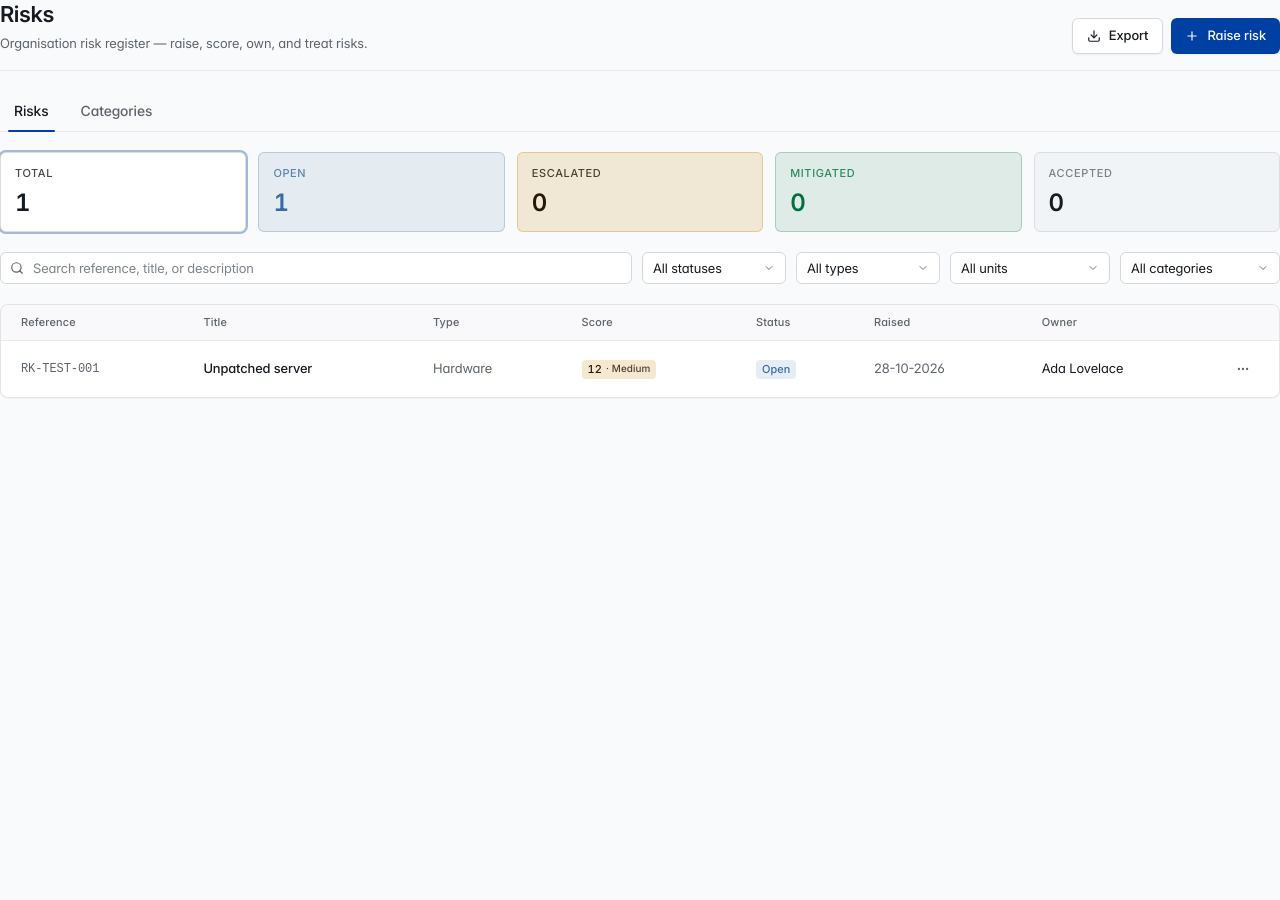
Test: RisksListPage › opens details from row actions
Expected: the text "Unpatched server" is shown, top-left (187, 341), bottom-right (417, 397)
What coordinates should you click on to do the following:
click the button named "actions for unpatched server"
I would click on:
 (1243, 369)
Its box is top-left (1227, 353), bottom-right (1259, 385).
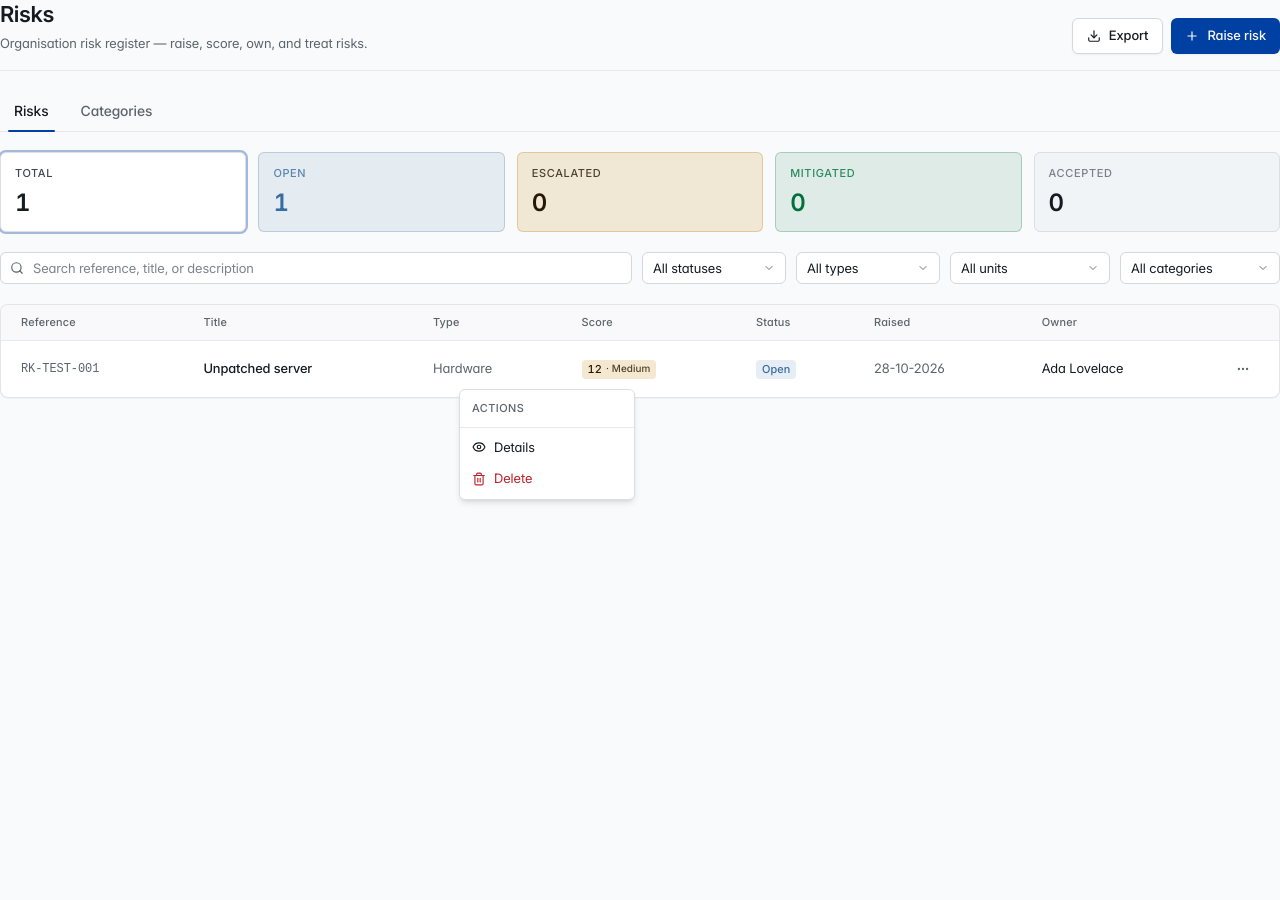
What coordinates should you click on to do the following:
click the menu item "Details"
I would click on:
 (503, 446)
Its box is top-left (472, 438), bottom-right (535, 454).
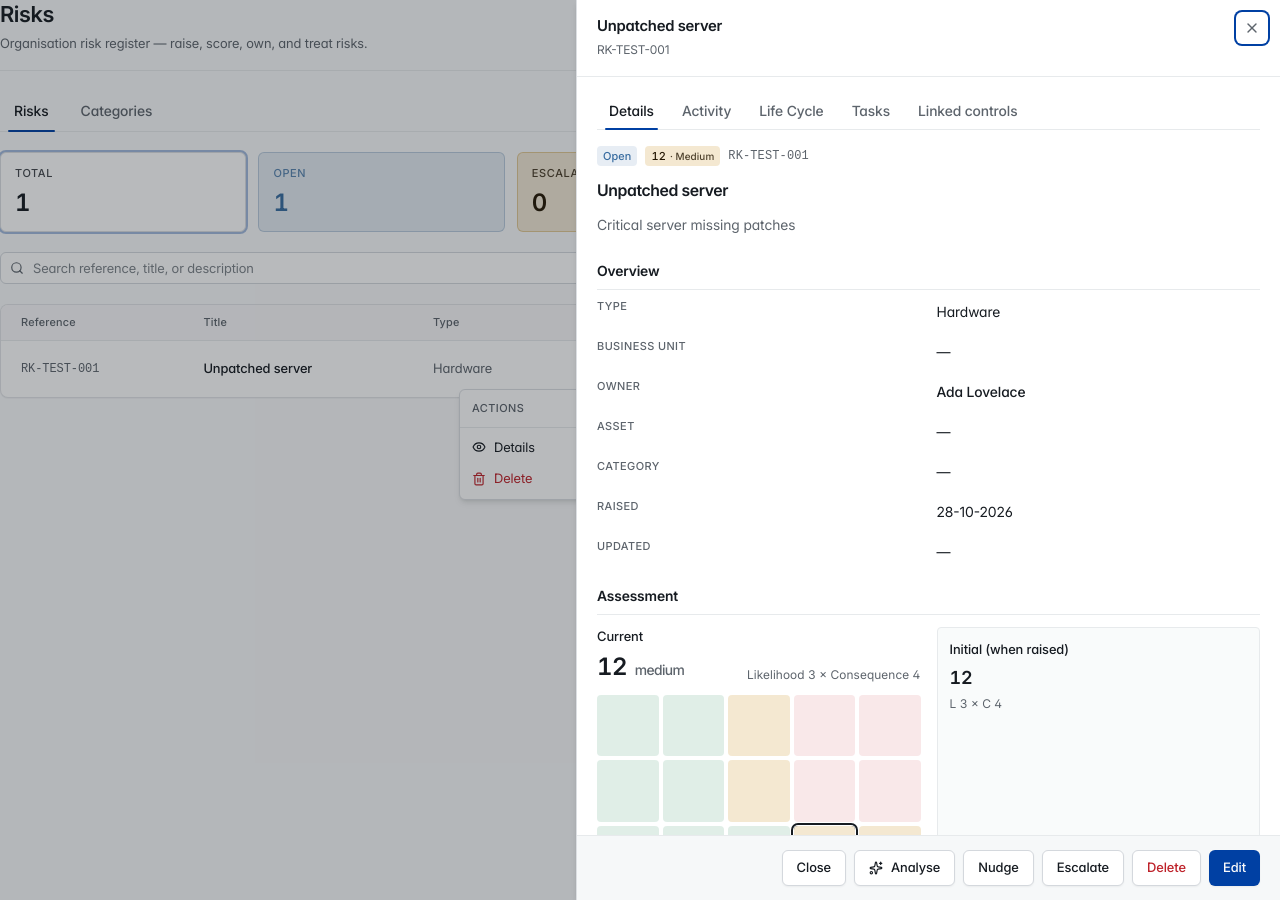
Now the button "Edit" is shown, box top-left (1209, 850), bottom-right (1260, 886)
Now the button "Escalate" is shown, box top-left (1042, 850), bottom-right (1124, 886)
Now the button "Nudge" is shown, box top-left (963, 850), bottom-right (1034, 886)
